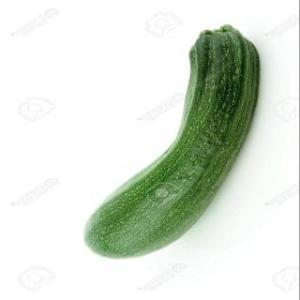zucchini: (73, 29, 266, 258)
